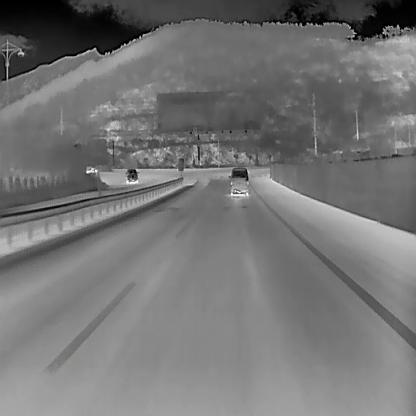car: (228, 166, 248, 196), (124, 168, 139, 184)
